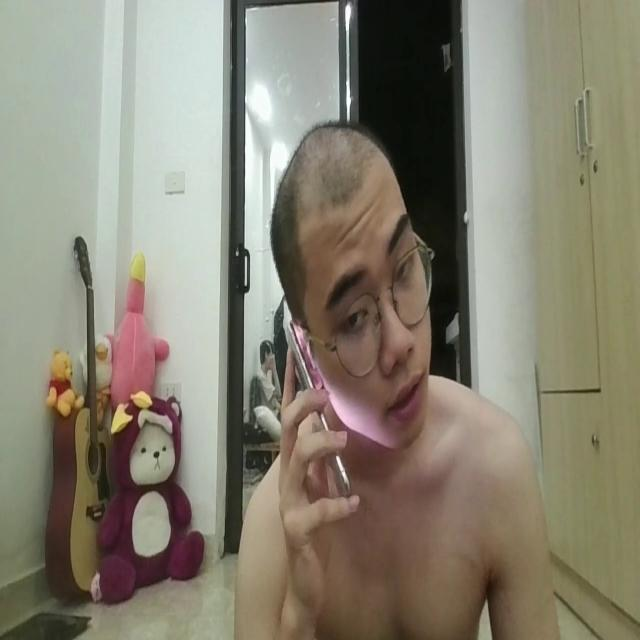phone: (271, 316, 377, 510)
student: (230, 108, 569, 640)
